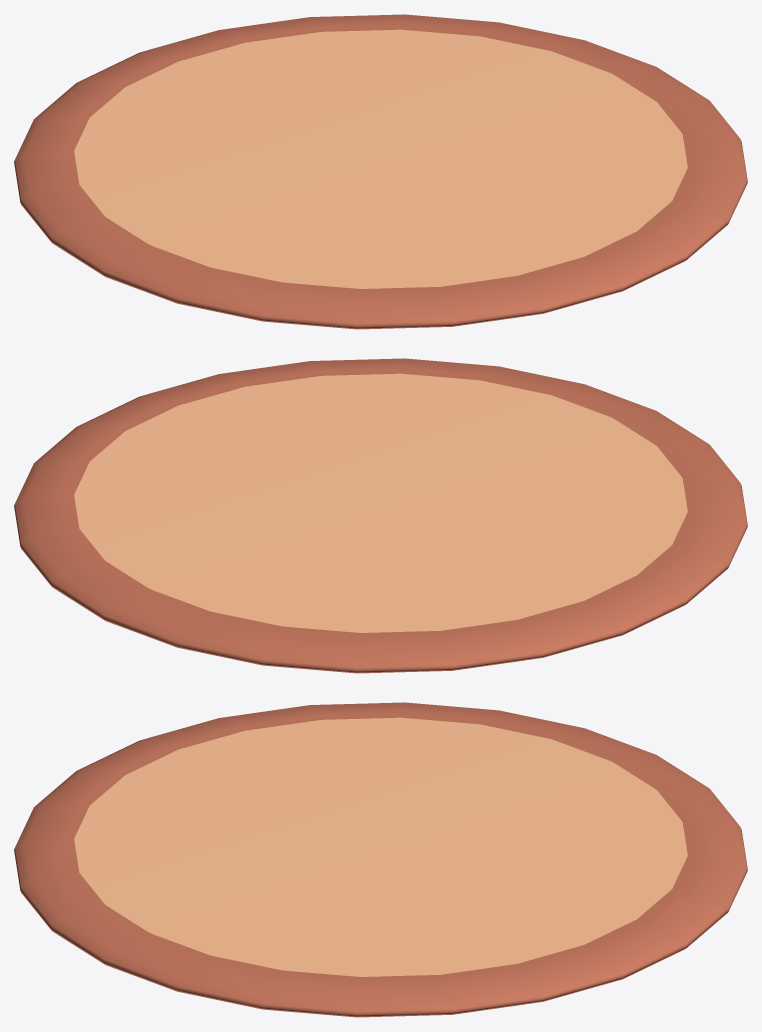
The model's file is Carpet_10.glb.
The picture shows the model from 3 angles, top to bottom: view 1: azimuth 30°, elevation 25°; view 2: azimuth 150°, elevation 25°; view 3: azimuth 270°, elevation 25°; orthographic projection.
Visible parts, largest first — view 1: Carpet_10; view 2: Carpet_10; view 3: Carpet_10.
Boxes of the visible parts, bbox=[...] form: Carpet_10: bbox=[14, 14, 747, 329]; Carpet_10: bbox=[14, 358, 747, 673]; Carpet_10: bbox=[14, 702, 747, 1017].
Bounding box in the file's own units: 1.33 × 0.0344 × 1.33.
Materials: 1 (1 with a texture image).
